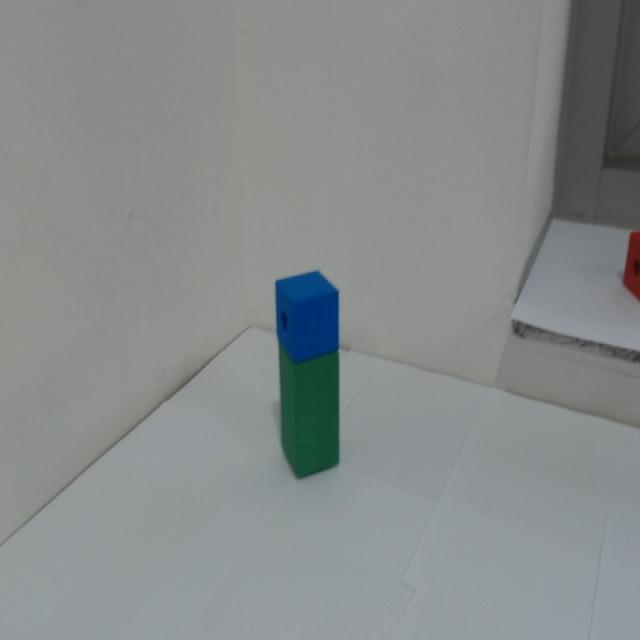cube: (266, 240, 357, 359)
